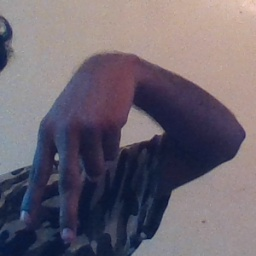Y: (19, 75, 131, 243)
